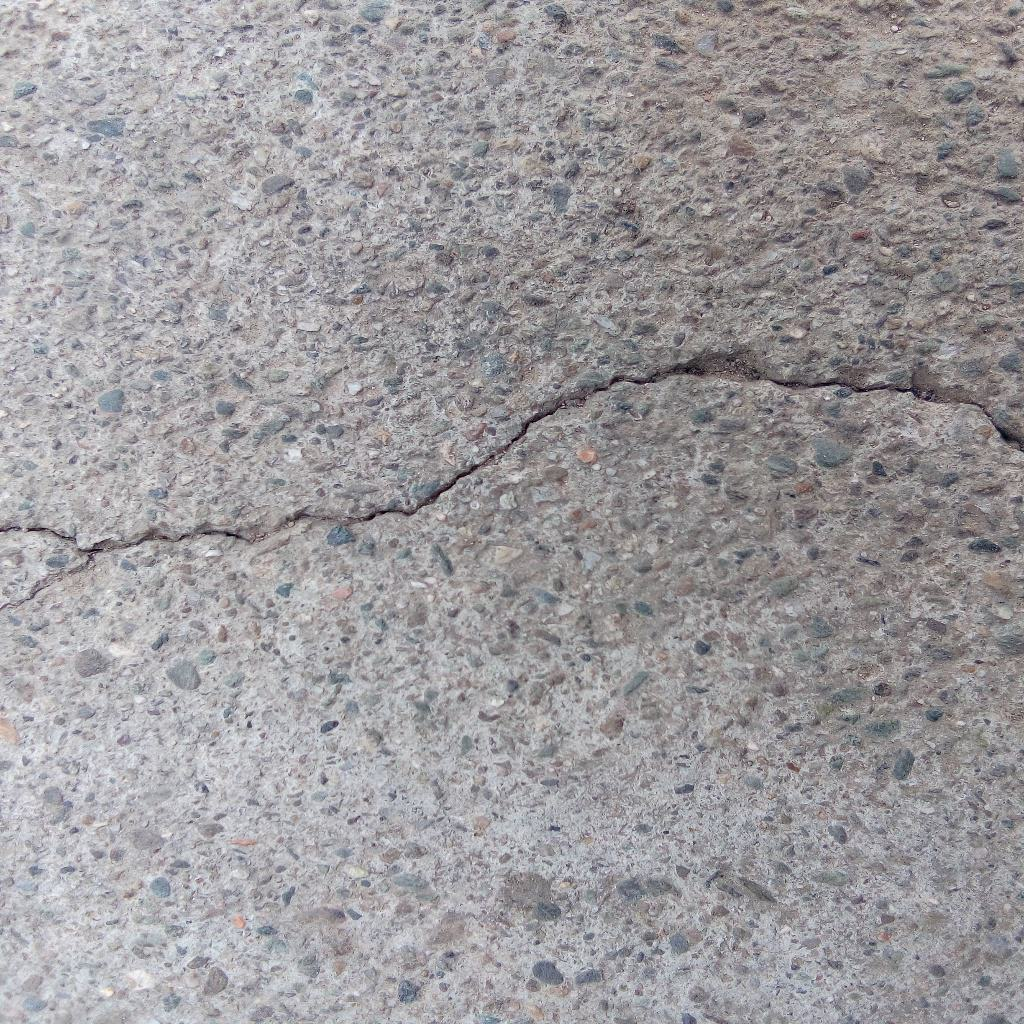Crack: (1, 346, 1024, 610)
